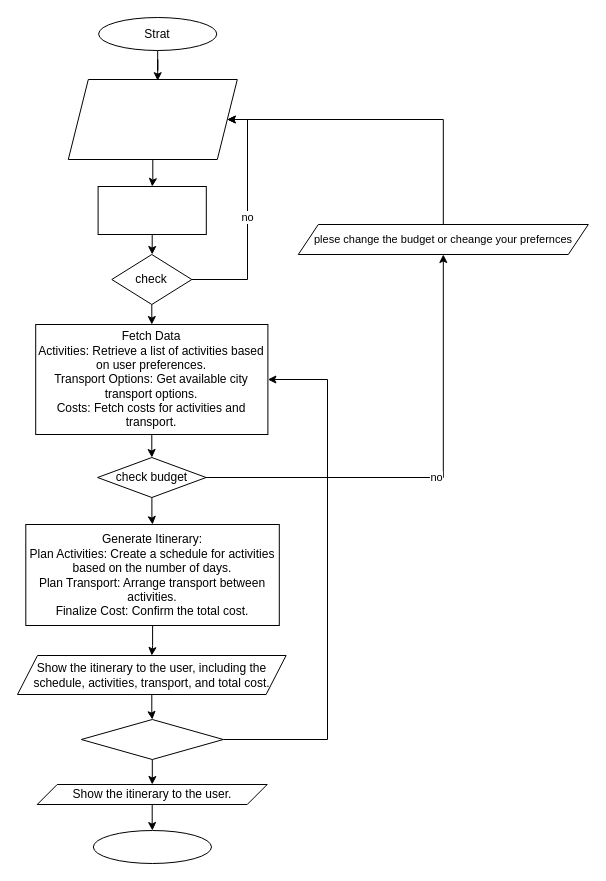
This 606x881 diagram has some shape labels left out. Here are the shapes that lost their labels. From the top down, the centre of each, then its label:
At (x=152, y=119): "User Input: Preferred Activities Number of Passengers Number of Days Budget".
At (x=151, y=210): "Validate Input all required inputs are provided and valid".
At (x=151, y=739): "confirmation user".
At (x=152, y=847): "End".
